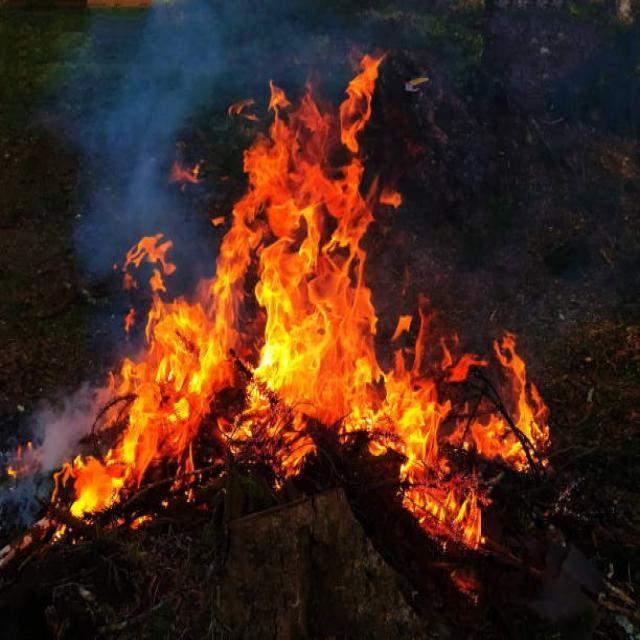Fire: (258, 84, 396, 431), (362, 318, 543, 550), (126, 254, 286, 445), (70, 444, 146, 514)
Smoke: (90, 8, 366, 302), (32, 404, 124, 468)
